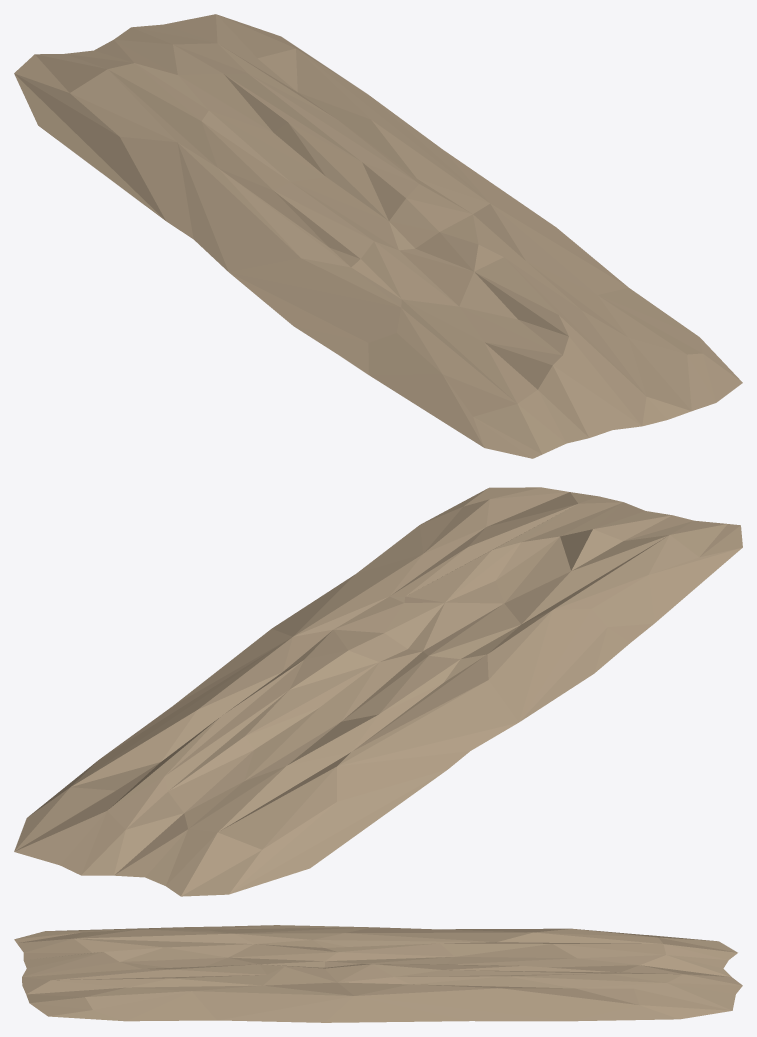
File: SM_Env_DirtRoad_Straight_01.glb
The picture shows the model from 3 angles, top to bottom: view 1: azimuth 30°, elevation 25°; view 2: azimuth 150°, elevation 25°; view 3: azimuth 270°, elevation 25°; orthographic projection. The views are drawn at different scales.
Parts seen in each view (by area): view 1: SM_Env_DirtRoad_Straight_01; view 2: SM_Env_DirtRoad_Straight_01; view 3: SM_Env_DirtRoad_Straight_01.
Boxes of the visible parts, x1=… form: SM_Env_DirtRoad_Straight_01: x1=14, y1=14, x2=742, y2=458; SM_Env_DirtRoad_Straight_01: x1=14, y1=487, x2=742, y2=896; SM_Env_DirtRoad_Straight_01: x1=14, y1=925, x2=742, y2=1022.
Size of the model in its own units: 2.68 by 0.3127 by 8.43.
Materials: 1 (1 with a texture image).
